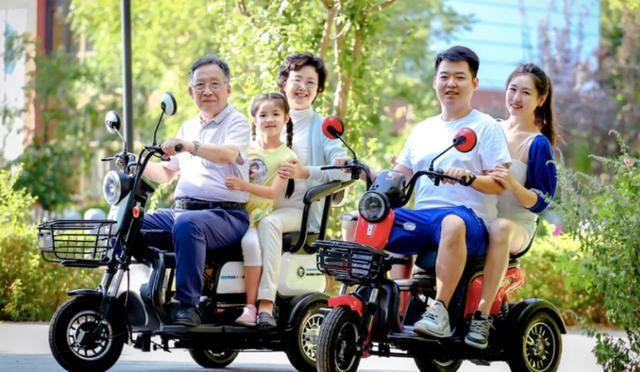driver: (377, 48, 496, 329), (143, 54, 242, 316)
overloading: (55, 45, 320, 356), (325, 47, 570, 372)
passenger: (272, 51, 340, 320), (491, 64, 549, 303), (238, 89, 290, 326)
